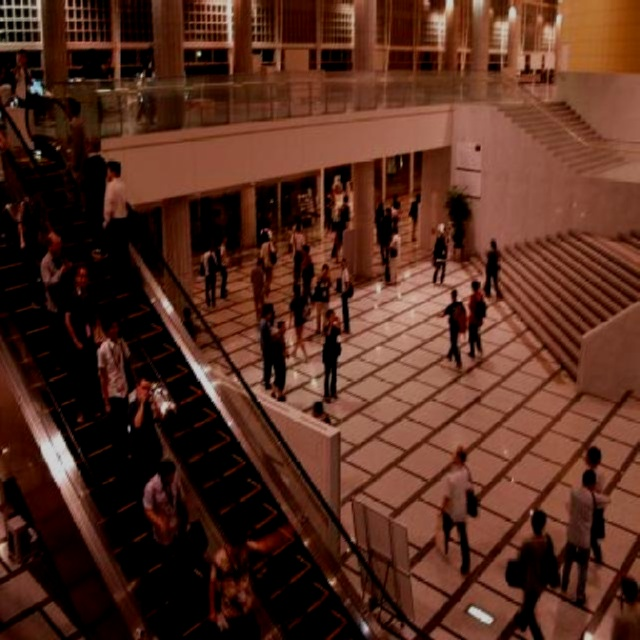stair: (13, 141, 369, 640), (0, 221, 221, 640), (469, 226, 640, 383), (495, 94, 634, 177)
